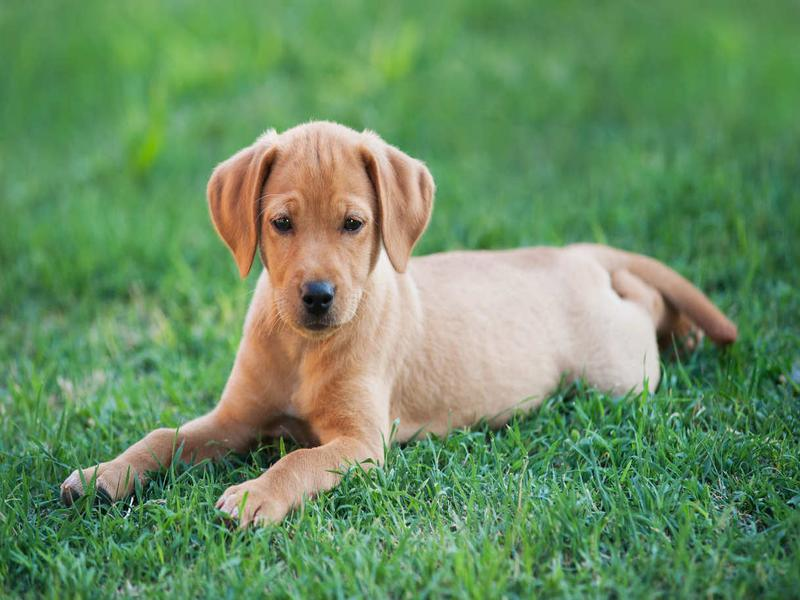dog_down: (54, 114, 737, 533)
